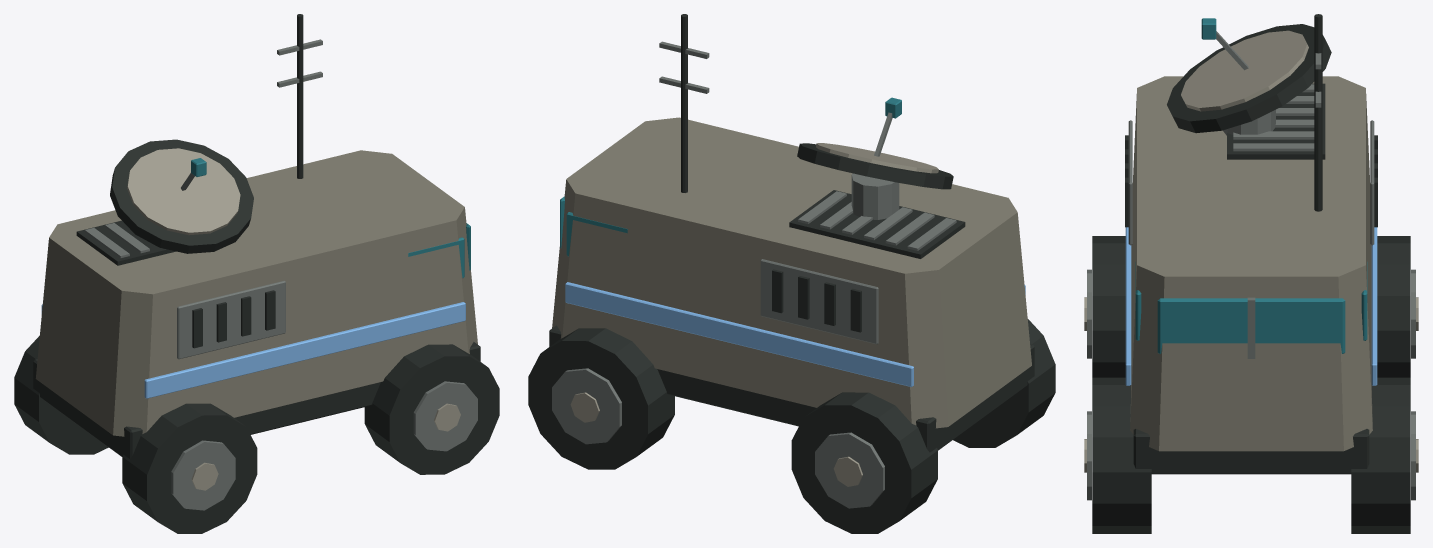
File: ghost_van.glb
3 renders of one model, left to right at view 1: azimuth 30°, elevation 25°; view 2: azimuth 150°, elevation 25°; view 3: azimuth 270°, elevation 25°, orthographic. The views are drawn at different scales.
Visible parts, largest first — view 1: ghost_van; view 2: ghost_van; view 3: ghost_van.
Boxes of the visible parts, x1=… form: ghost_van: x1=14, y1=14, x2=499, y2=533; ghost_van: x1=528, y1=14, x2=1055, y2=533; ghost_van: x1=1084, y1=14, x2=1418, y2=533.
Size of the model in its own units: 2.26 by 2.38 by 1.5.
